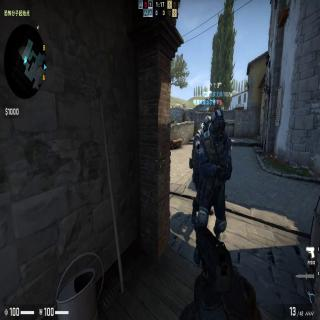CT-Body: (198, 109, 232, 226)
CT-Head: (212, 111, 226, 140)
